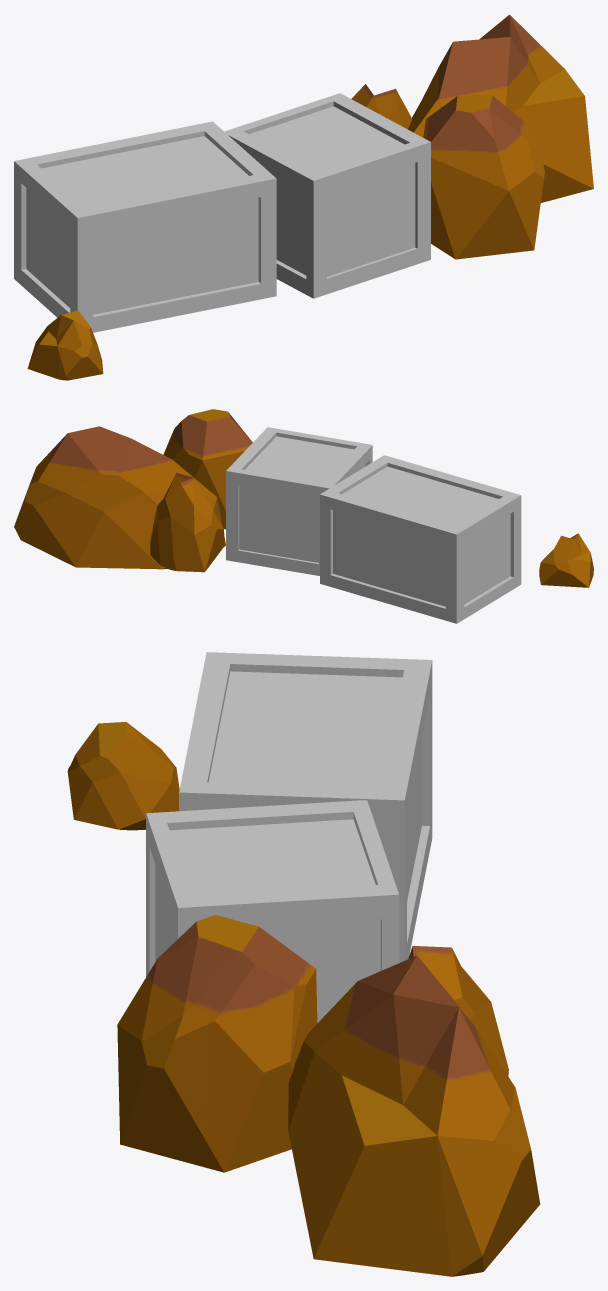
File: cover2.fbx
The picture shows the model from 3 angles, top to bottom: view 1: azimuth 30°, elevation 25°; view 2: azimuth 150°, elevation 25°; view 3: azimuth 270°, elevation 25°; orthographic projection. The views are drawn at different scales.
Visible parts, largest first — view 1: cover2; view 2: cover2; view 3: cover2.
Boxes of the visible parts, x1,y1,x2,y2 form: cover2: (14,14,593,380); cover2: (14,409,593,623); cover2: (67,652,540,1276).
Bounding box in the file's own units: 754 × 191 × 314.
